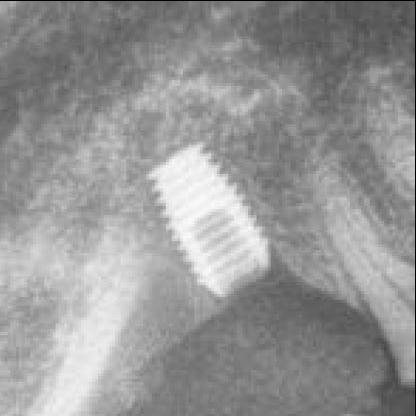Bicon: (132, 134, 282, 314)
